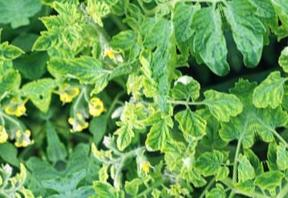Tomato leaf yellow virus: (47, 40, 120, 103), (194, 77, 249, 130), (133, 113, 182, 158), (171, 101, 215, 148), (190, 142, 236, 186), (108, 114, 140, 155), (60, 15, 86, 57), (30, 25, 63, 57), (197, 179, 239, 198), (90, 171, 119, 198), (39, 0, 80, 15), (84, 0, 124, 12), (72, 190, 115, 198), (173, 190, 211, 198), (134, 189, 167, 198)
